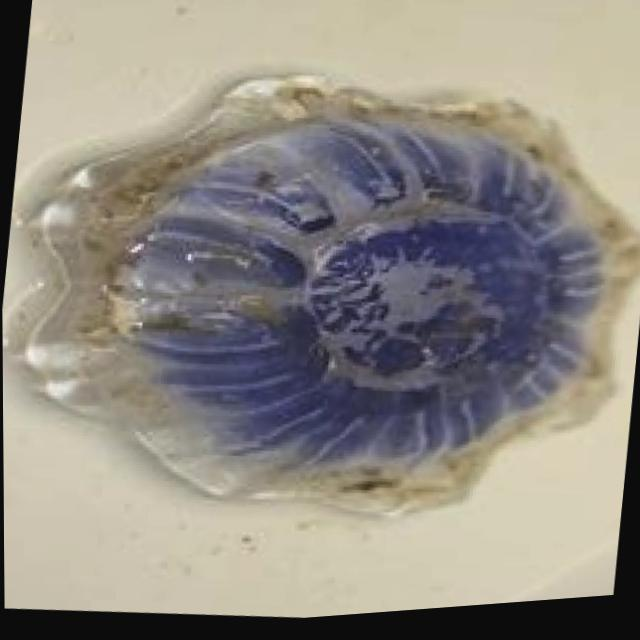Moon-jellyfish: (0, 24, 640, 569)
